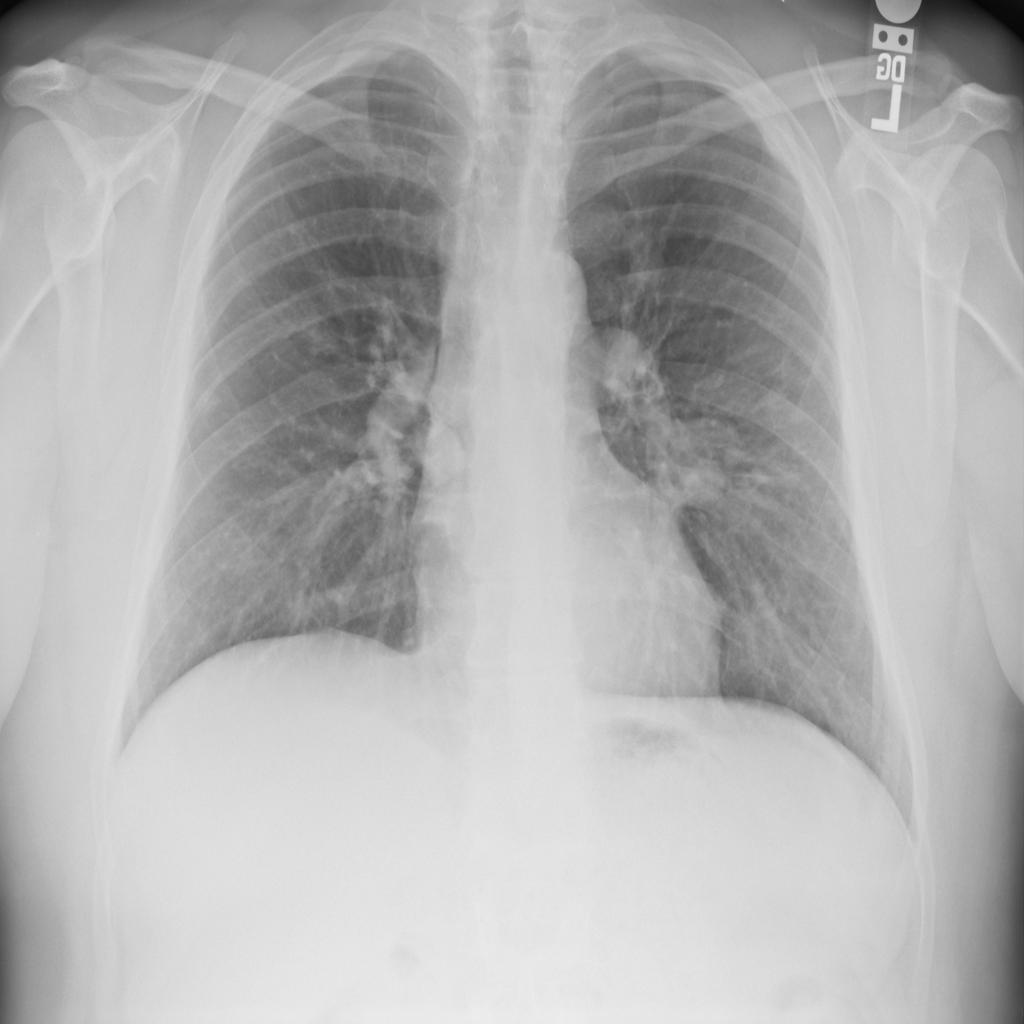nodule: (749, 368, 822, 440), (411, 414, 477, 491), (670, 436, 736, 513), (286, 295, 351, 370), (187, 372, 234, 425)
